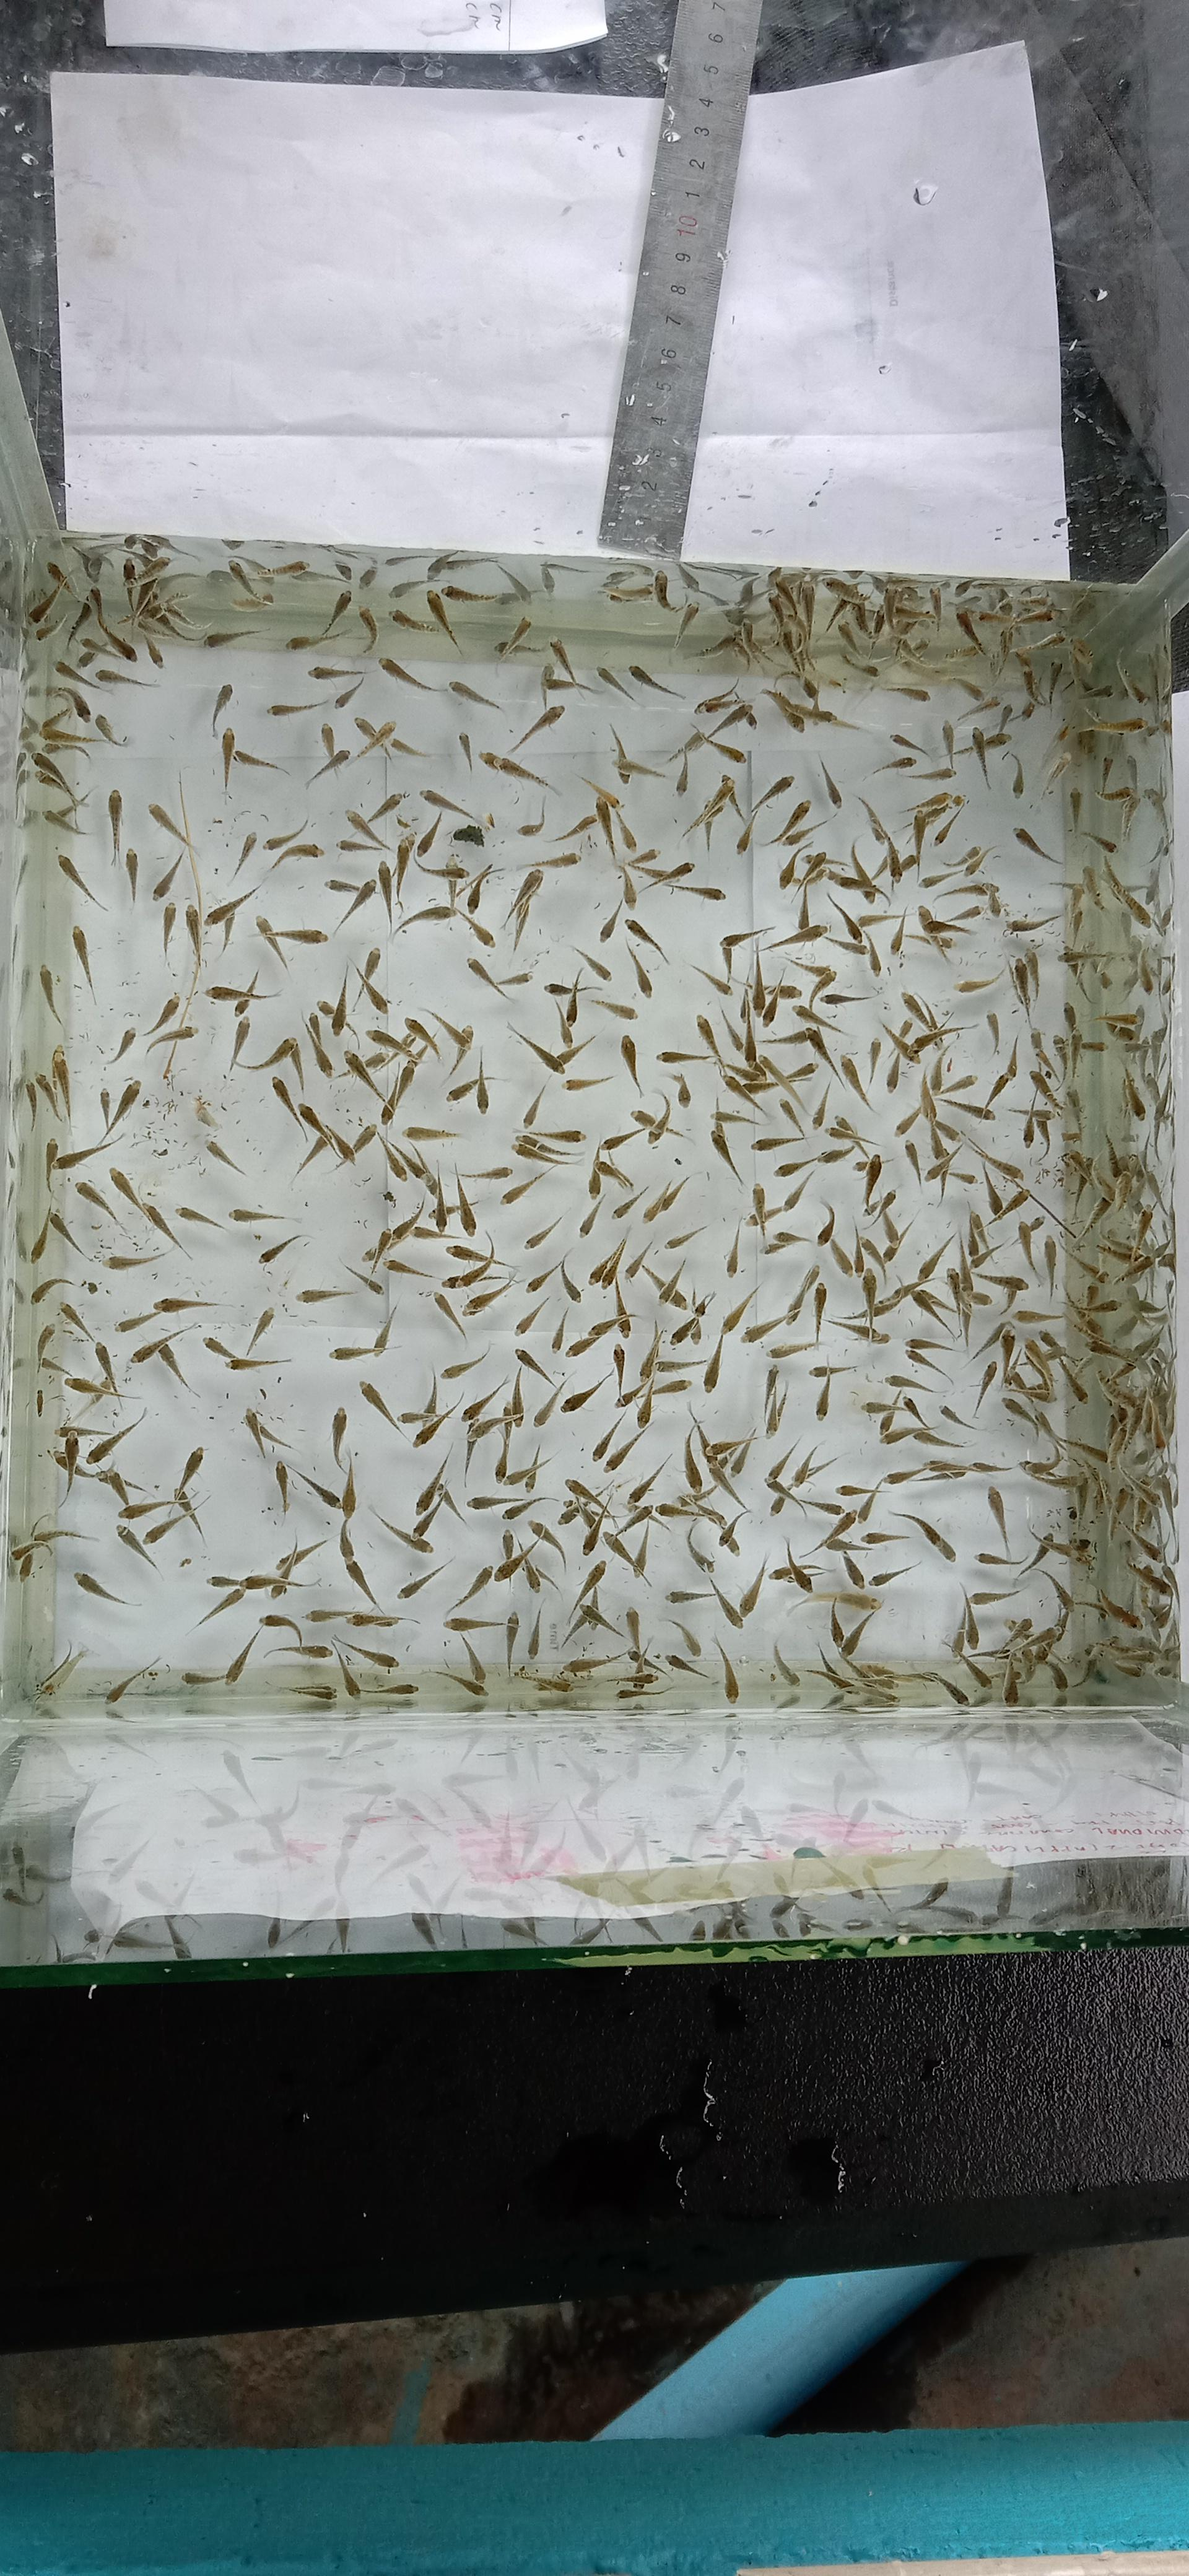fish: (192, 1534, 327, 1630), (108, 1166, 184, 1250), (204, 1306, 292, 1372), (223, 1613, 302, 1684), (130, 1319, 202, 1390), (734, 774, 793, 853), (506, 1023, 598, 1073), (286, 588, 353, 649), (680, 774, 737, 844), (291, 1452, 356, 1513), (85, 586, 138, 662), (608, 724, 667, 782), (31, 1643, 87, 1704), (504, 866, 544, 951), (480, 749, 557, 792), (85, 1410, 146, 1464), (892, 1510, 954, 1561), (207, 969, 279, 1012), (370, 1505, 434, 1552), (466, 954, 532, 1000), (102, 1658, 163, 1707), (57, 853, 107, 912), (358, 1378, 404, 1441), (511, 703, 565, 752), (445, 1564, 493, 1617), (72, 1571, 140, 1607), (762, 797, 811, 846), (396, 1557, 452, 1600), (228, 557, 273, 609), (205, 884, 259, 927), (461, 1373, 509, 1421), (424, 588, 460, 649), (192, 1589, 246, 1628), (624, 917, 668, 963), (148, 802, 192, 848), (420, 787, 480, 821), (143, 1508, 195, 1546), (762, 688, 806, 733), (117, 1525, 159, 1571), (425, 1007, 473, 1048), (337, 1640, 399, 1671), (501, 1168, 552, 1206), (1013, 825, 1061, 864), (381, 657, 435, 692), (627, 664, 682, 698), (353, 715, 397, 756), (448, 678, 503, 711), (596, 664, 637, 703), (494, 614, 534, 655), (204, 1137, 246, 1175), (568, 945, 613, 981), (258, 1232, 305, 1265), (954, 606, 985, 654), (580, 774, 621, 808), (264, 818, 309, 849), (695, 682, 739, 713), (202, 626, 261, 649), (665, 1653, 713, 1681), (174, 1204, 227, 1229), (389, 606, 435, 634), (210, 682, 233, 734), (355, 605, 378, 655), (819, 757, 842, 808), (309, 664, 363, 680)
